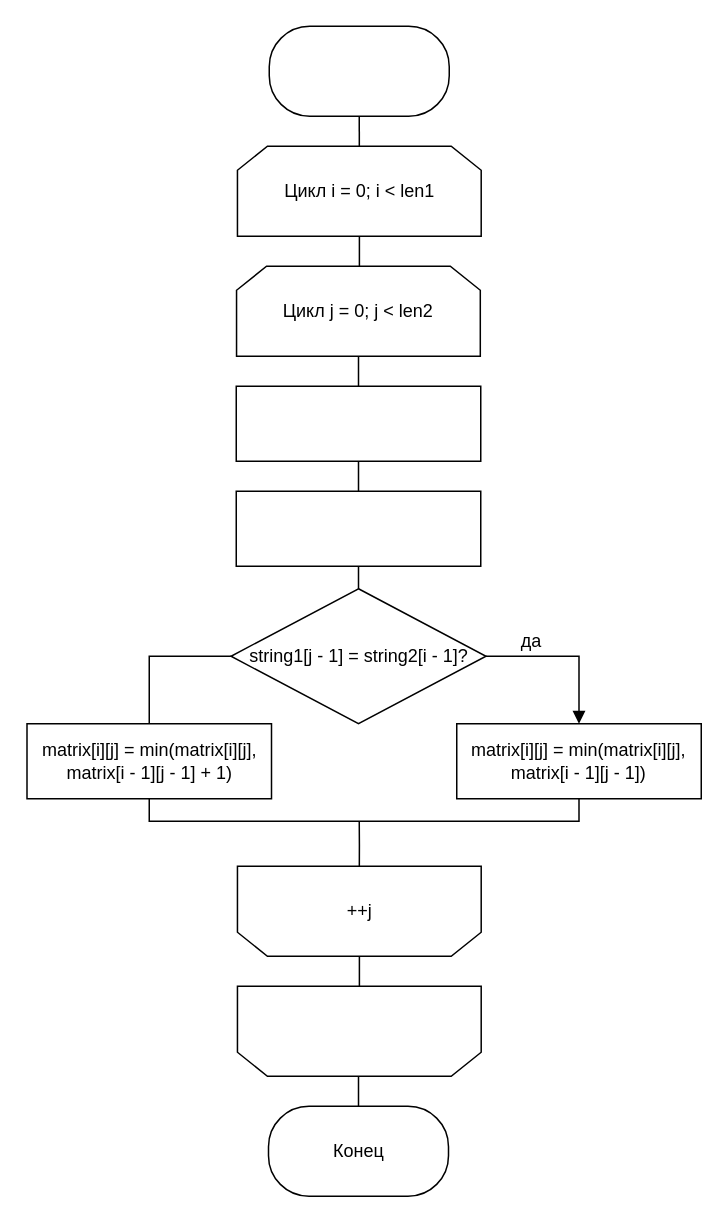
The diagram is 728 pixels wide and 1223 high, and some of its shapes have lost their labels. Here are the shapes that lost their labels. From the top down, the centre of each, then its label:
At pixel 358 70: "Начало".
At pixel 358 423: "matrix[i][j] = min(matrix[i][j], matrix[i - 1][j] + 1)".
At pixel 358 528: "matrix[i][j] = min(matrix[i][j], matrix[i][j - 1] + 1)".
At pixel 358 1030: "++i".
